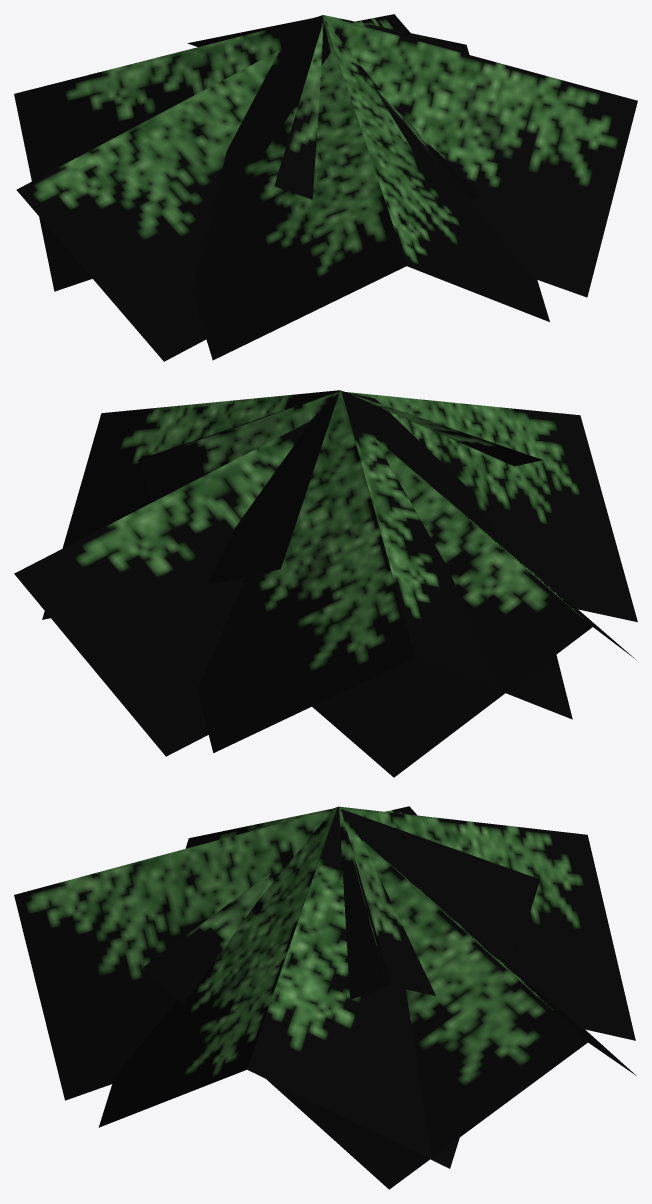
Rendered from spruce_leaves_omnidirectional.obj.
3 views of the same model, one above another, from view 1: azimuth 30°, elevation 25°; view 2: azimuth 150°, elevation 25°; view 3: azimuth 270°, elevation 25° (orthographic). The views are drawn at different scales.
Parts seen in each view (by area): view 1: plane; view 2: plane; view 3: plane.
Boxes of the visible parts, box(x1,y1,x2,y2) form: plane: box(14, 14, 637, 361); plane: box(14, 390, 637, 777); plane: box(14, 806, 636, 1189).
Size of the model in its own units: 2.4 by 1.04 by 2.28.
